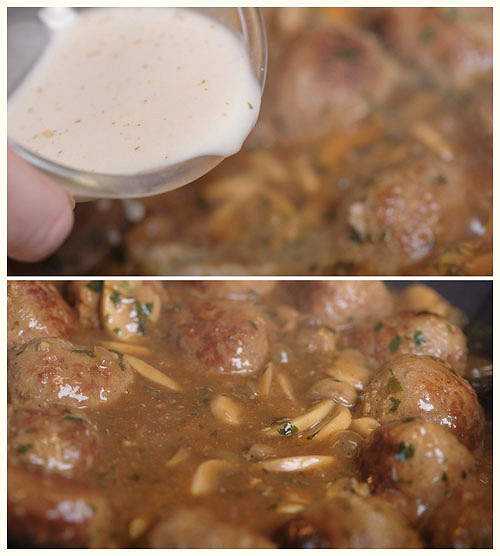meatballs: (361, 354, 473, 433), (366, 424, 466, 504), (8, 474, 106, 553), (289, 487, 415, 547), (134, 500, 279, 552), (344, 178, 433, 260), (17, 342, 108, 414), (176, 304, 263, 377), (1, 414, 112, 470), (368, 308, 469, 367), (6, 284, 66, 345)
